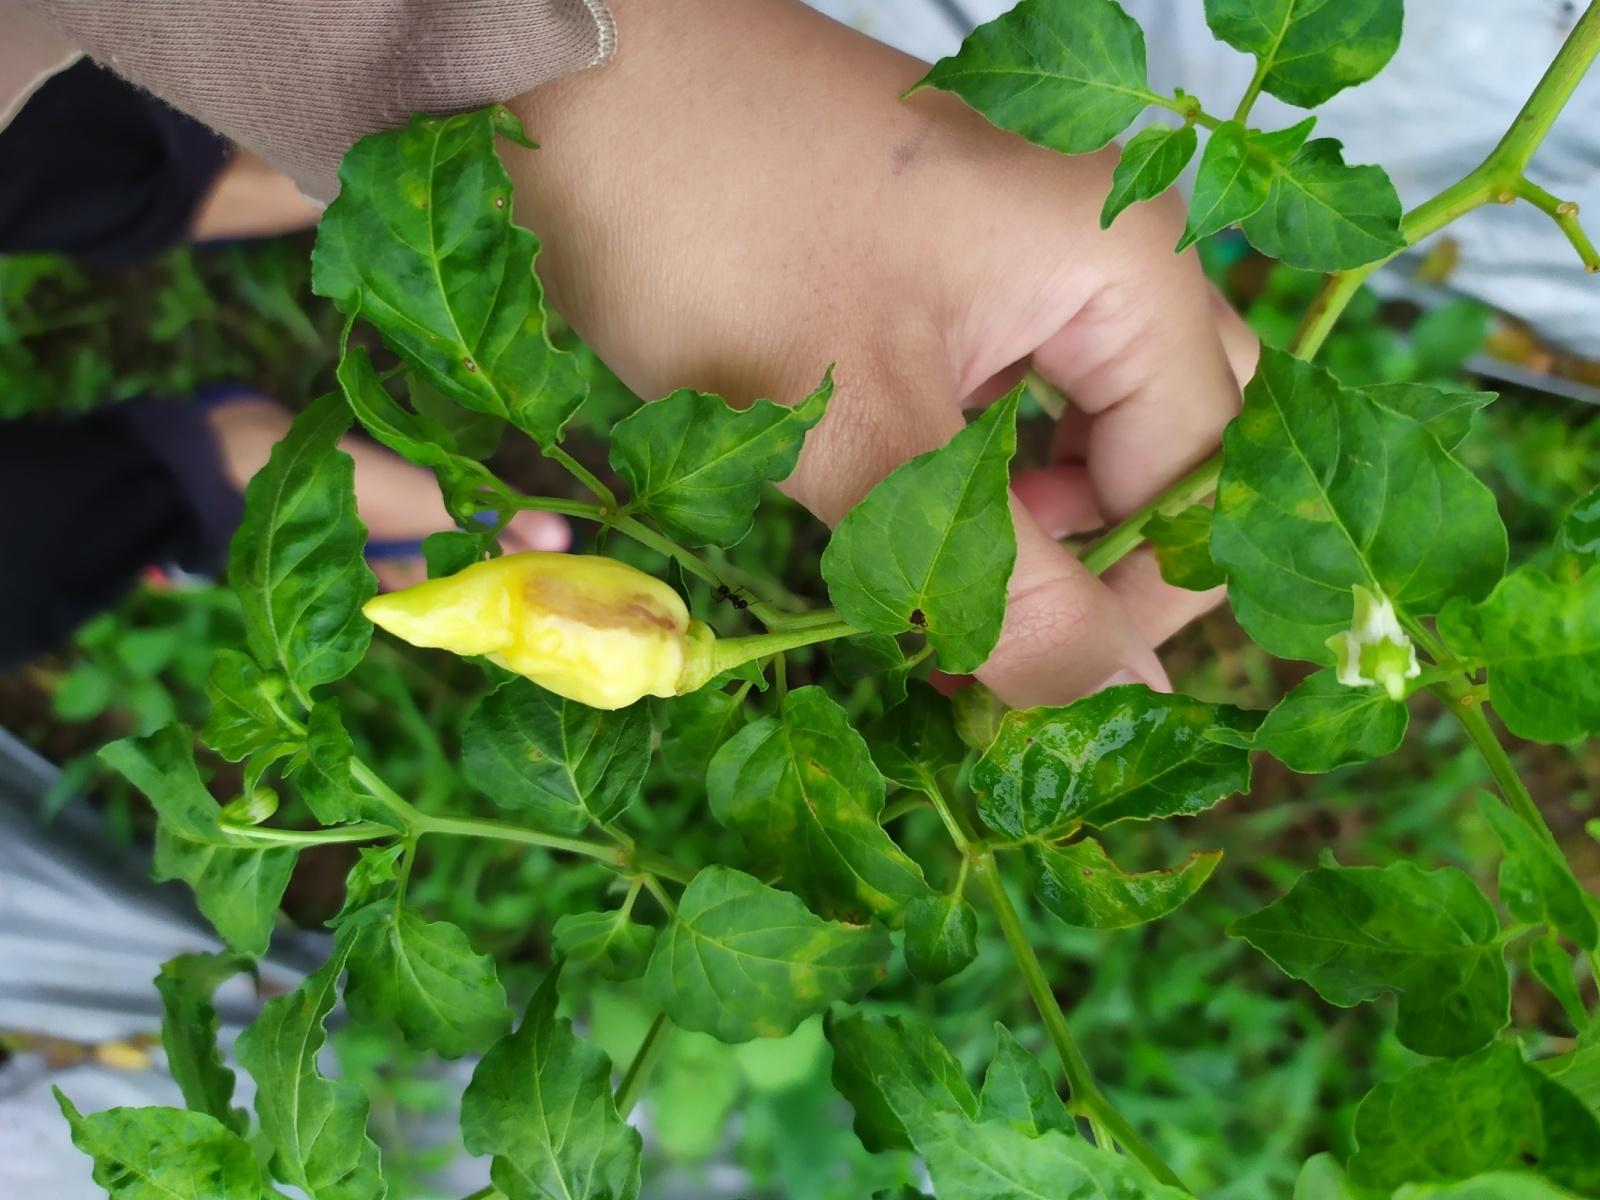lalat_buah: (362, 551, 695, 711)
